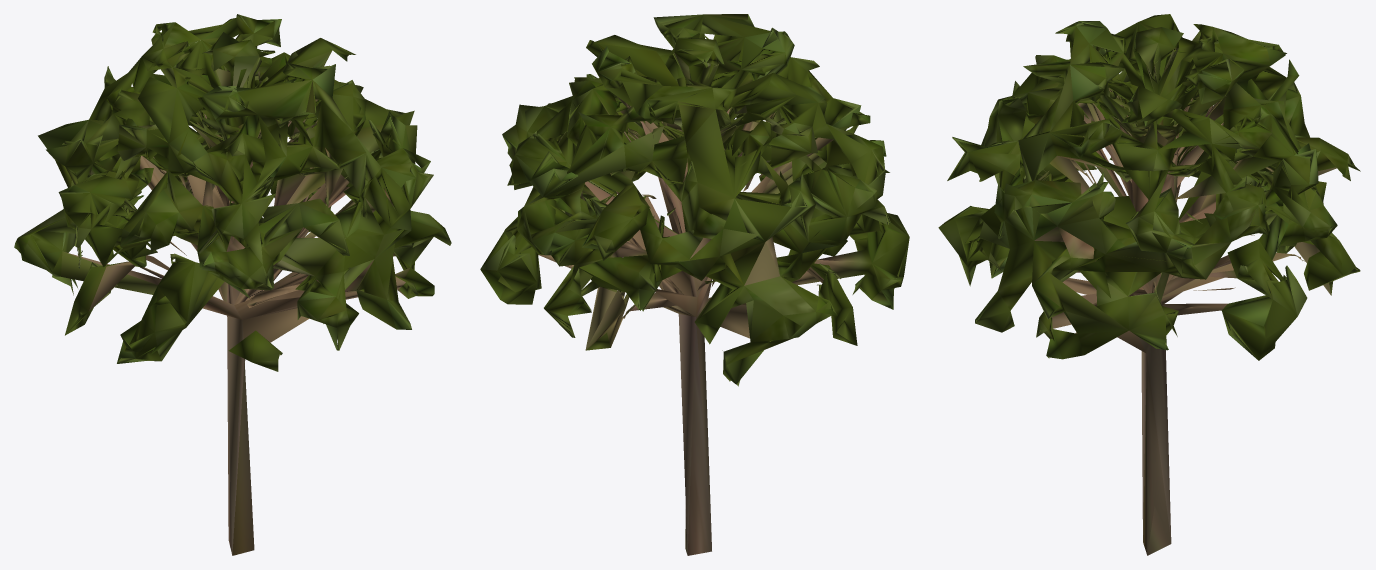
File: arvore2.glb
The picture shows the model from 3 angles, left to right: view 1: azimuth 30°, elevation 25°; view 2: azimuth 150°, elevation 25°; view 3: azimuth 270°, elevation 25°; orthographic projection.
Visible parts, largest first — view 1: Prop_arvore2; view 2: Prop_arvore2; view 3: Prop_arvore2.
Boxes of the visible parts, bbox=[...] form: Prop_arvore2: bbox=[14, 14, 451, 555]; Prop_arvore2: bbox=[480, 14, 909, 555]; Prop_arvore2: bbox=[938, 14, 1360, 555].
Bounding box in the file's own units: 5.82 × 8 × 5.94.
Materials: 1 (1 with a texture image).
